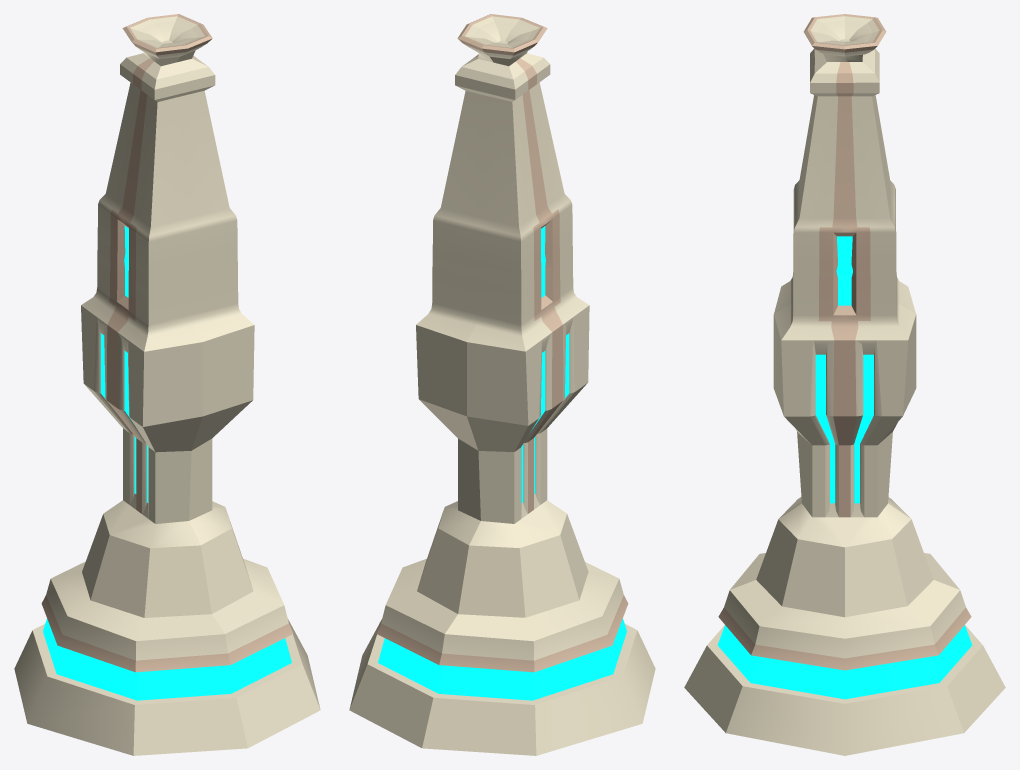
File: Beaconnn.fbx
The picture shows the model from 3 angles, left to right: view 1: azimuth 30°, elevation 25°; view 2: azimuth 150°, elevation 25°; view 3: azimuth 270°, elevation 25°; orthographic projection.
Visible parts, largest first — view 1: polySurface2; view 2: polySurface2; view 3: polySurface2.
Boxes of the visible parts, x1,y1,x2,y2 form: polySurface2: (14,14,320,755); polySurface2: (349,14,655,755); polySurface2: (684,14,1005,755).
Size of the model in its own units: 43.84 by 98.32 by 43.57.
